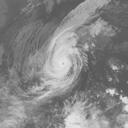cyclone: (39, 34, 83, 96)
